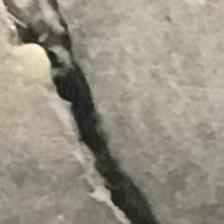Crack: (4, 0, 187, 224)
